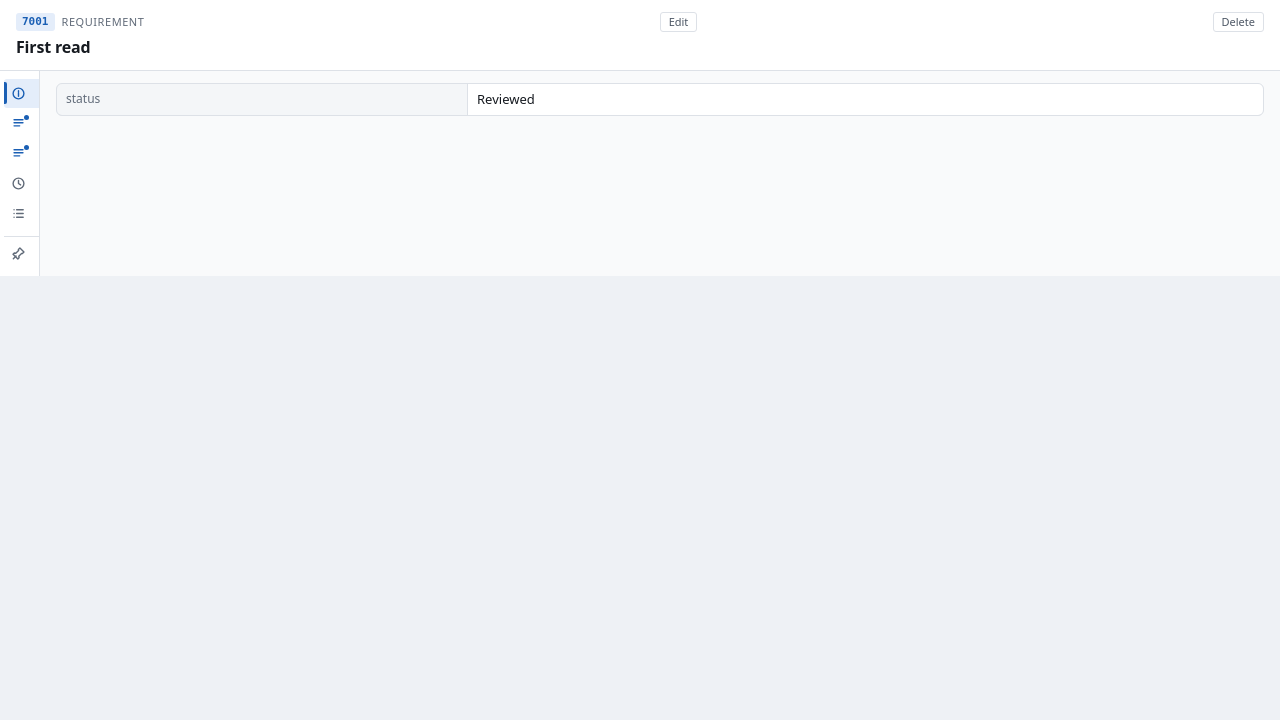
Test case: the delete button › drops an open confirmation when the pane moves to another record
Expected: the heading "First read" is shown, [16,36,91,58]
Click the button "Delete": (1238, 22) [1212,12,1264,32]
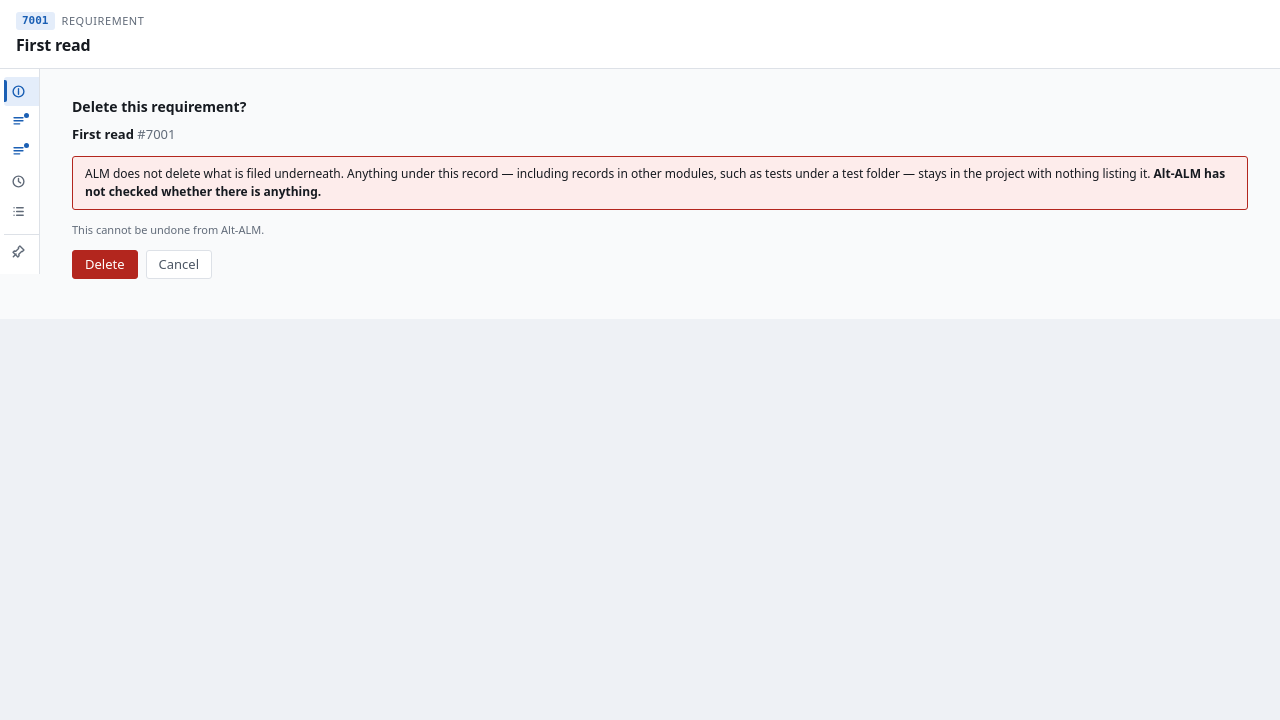
Result: the dialog is shown at [56,81,1264,295]
